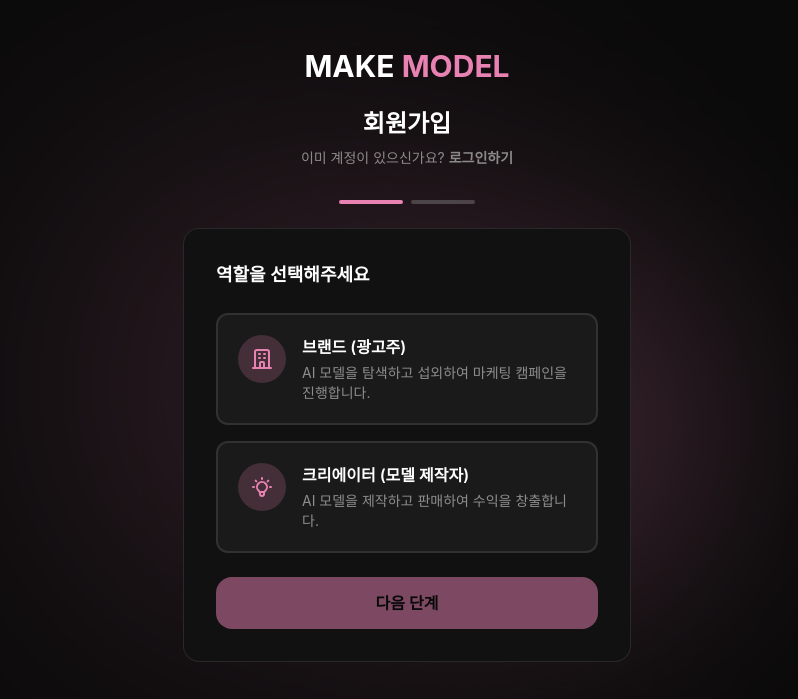
Test: SignupPage › should show error when company name is missing for brand role
The width and height of the screenshot is (798, 699).
# Select brand
Click the heading "브랜드 (광고주)" at x=354, y=347, box [302,337,406,357]
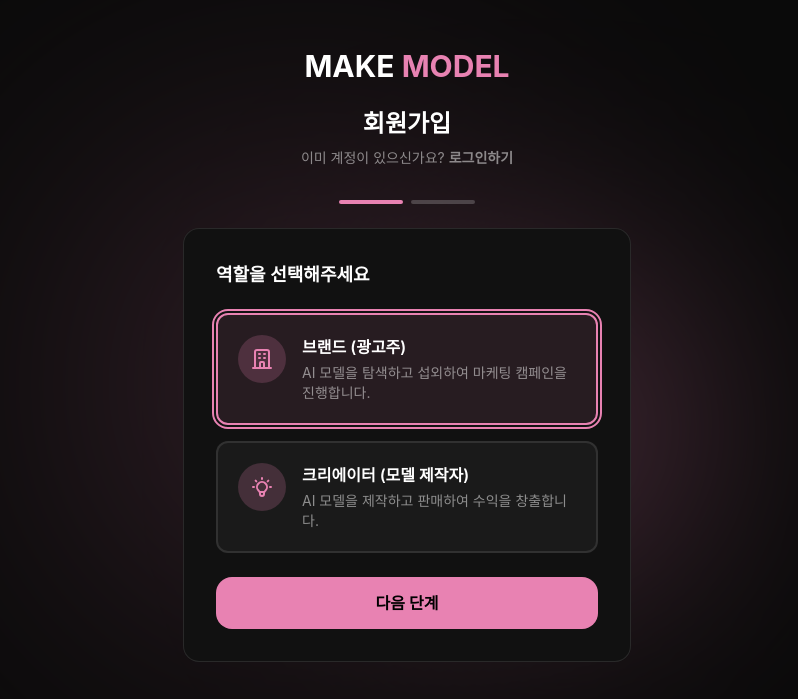
# Click next
Click the button "다음 단계" at x=407, y=603, box [216,577,598,629]
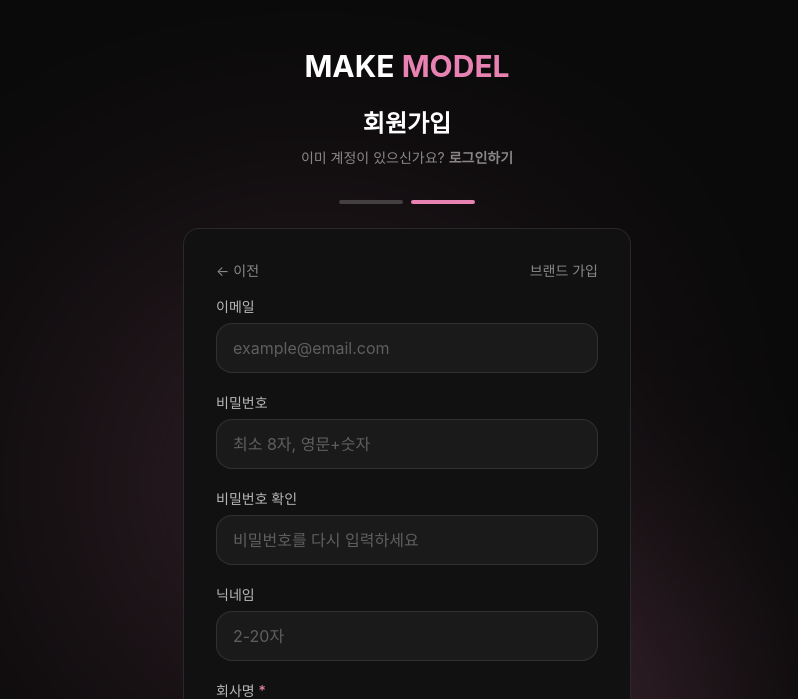
Now the field labelled "이메일" is shown
Type "brand@example.com" into the field labelled "이메일" at x=407, y=348, box [216,323,598,373]
Type "ValidPass123!" into the password field labelled "비밀번호" at x=407, y=444, box [216,419,598,469]
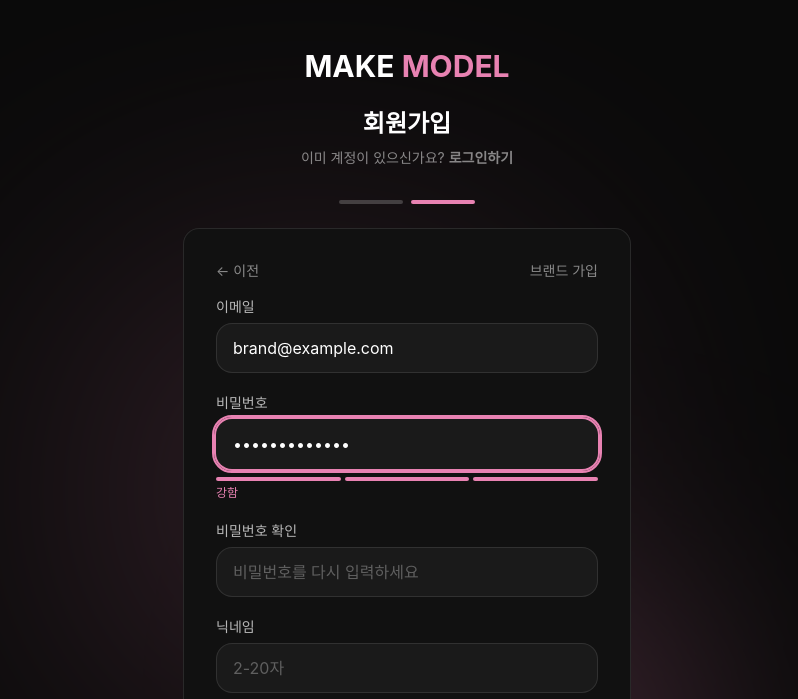
Type "ValidPass123!" into the password field labelled "비밀번호 확인" at x=407, y=572, box [216,547,598,597]
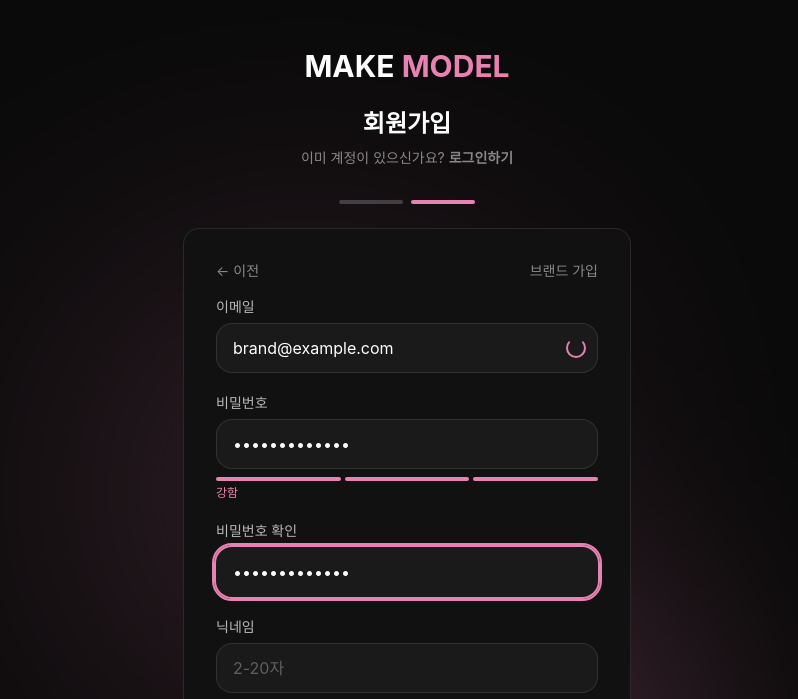
Type "brand_nick" into the field labelled "닉네임" at x=407, y=668, box [216,643,598,693]
(page scrolled)
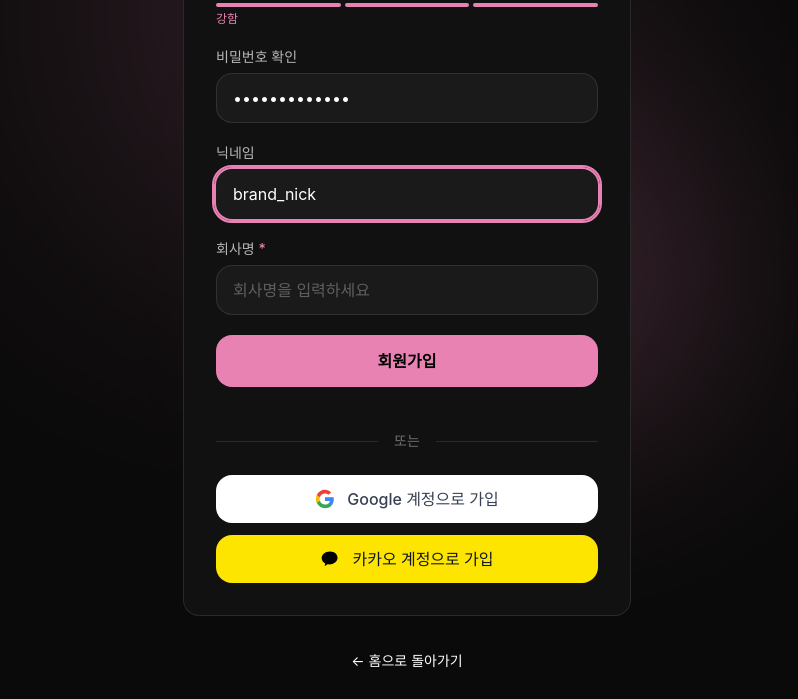
# Try to submit without company name
Click the button "회원가입" at x=407, y=361, box [216,335,598,387]
(page scrolled)
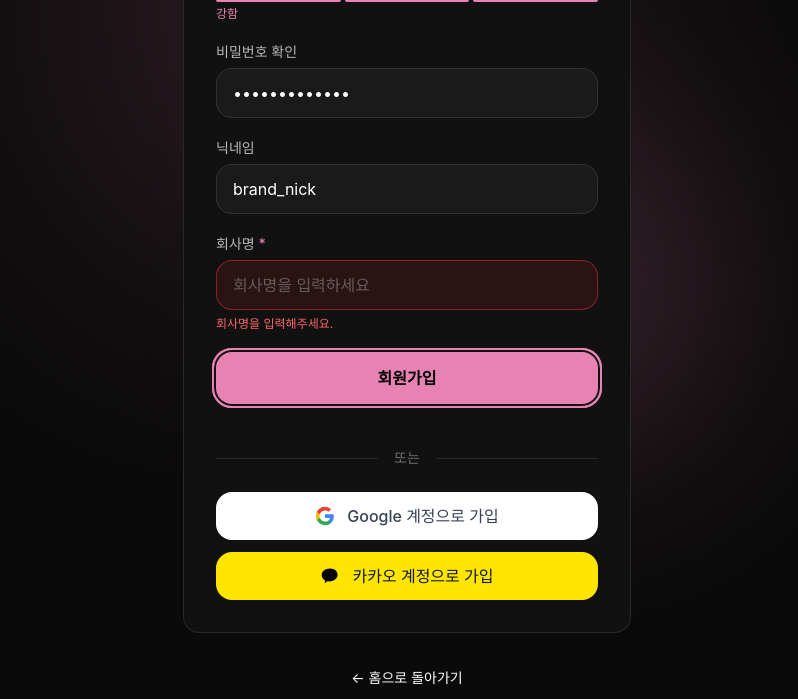
Now the text "회사명을 입력해주세요." is shown, box [216,316,333,331]
